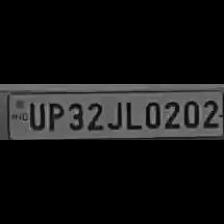0: (140, 97, 162, 128), (181, 97, 199, 128)
2: (84, 99, 104, 131), (160, 98, 180, 130), (200, 97, 218, 129)
3: (64, 99, 84, 131)
J: (106, 97, 124, 130)
L: (122, 97, 140, 130)
P: (45, 98, 63, 132)
U: (24, 99, 44, 130)
